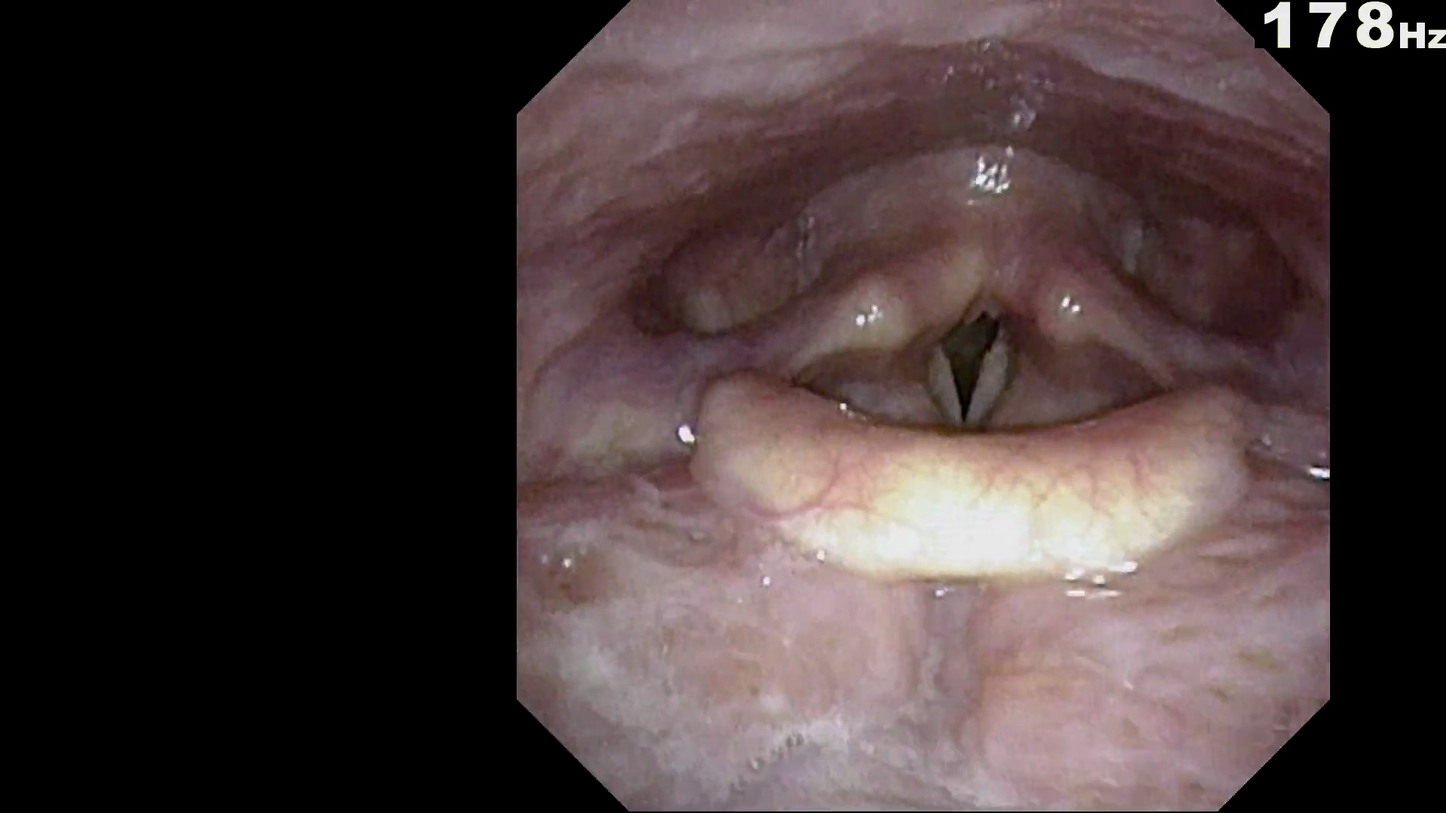epiglottis: (675, 372, 1273, 603)
trachea: (920, 309, 1022, 432)
